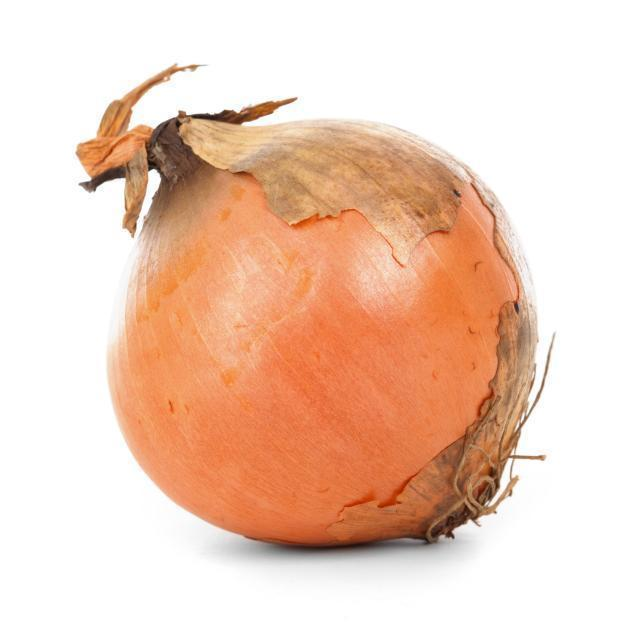Onion: (74, 60, 555, 553)
